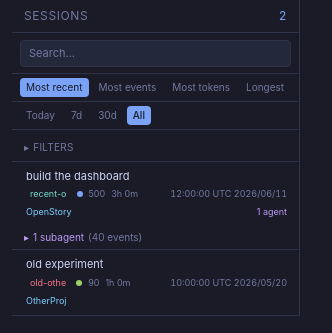
Test: when searching › should match by label through the shared filter model
Type "experiment" into the field with test id "explore-search" at (156, 53), box x1=20 y1=40 x2=291 y2=66
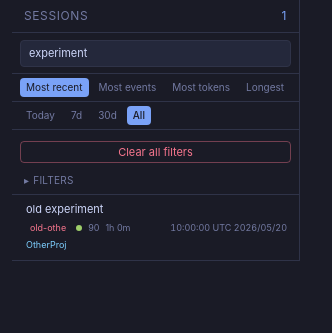
Expected: the button with test id "explore-session-old-otherproj" is shown, x1=12 y1=195 x2=299 y2=260
Expected: the button with test id "explore-session-recent-openstory" is gone
